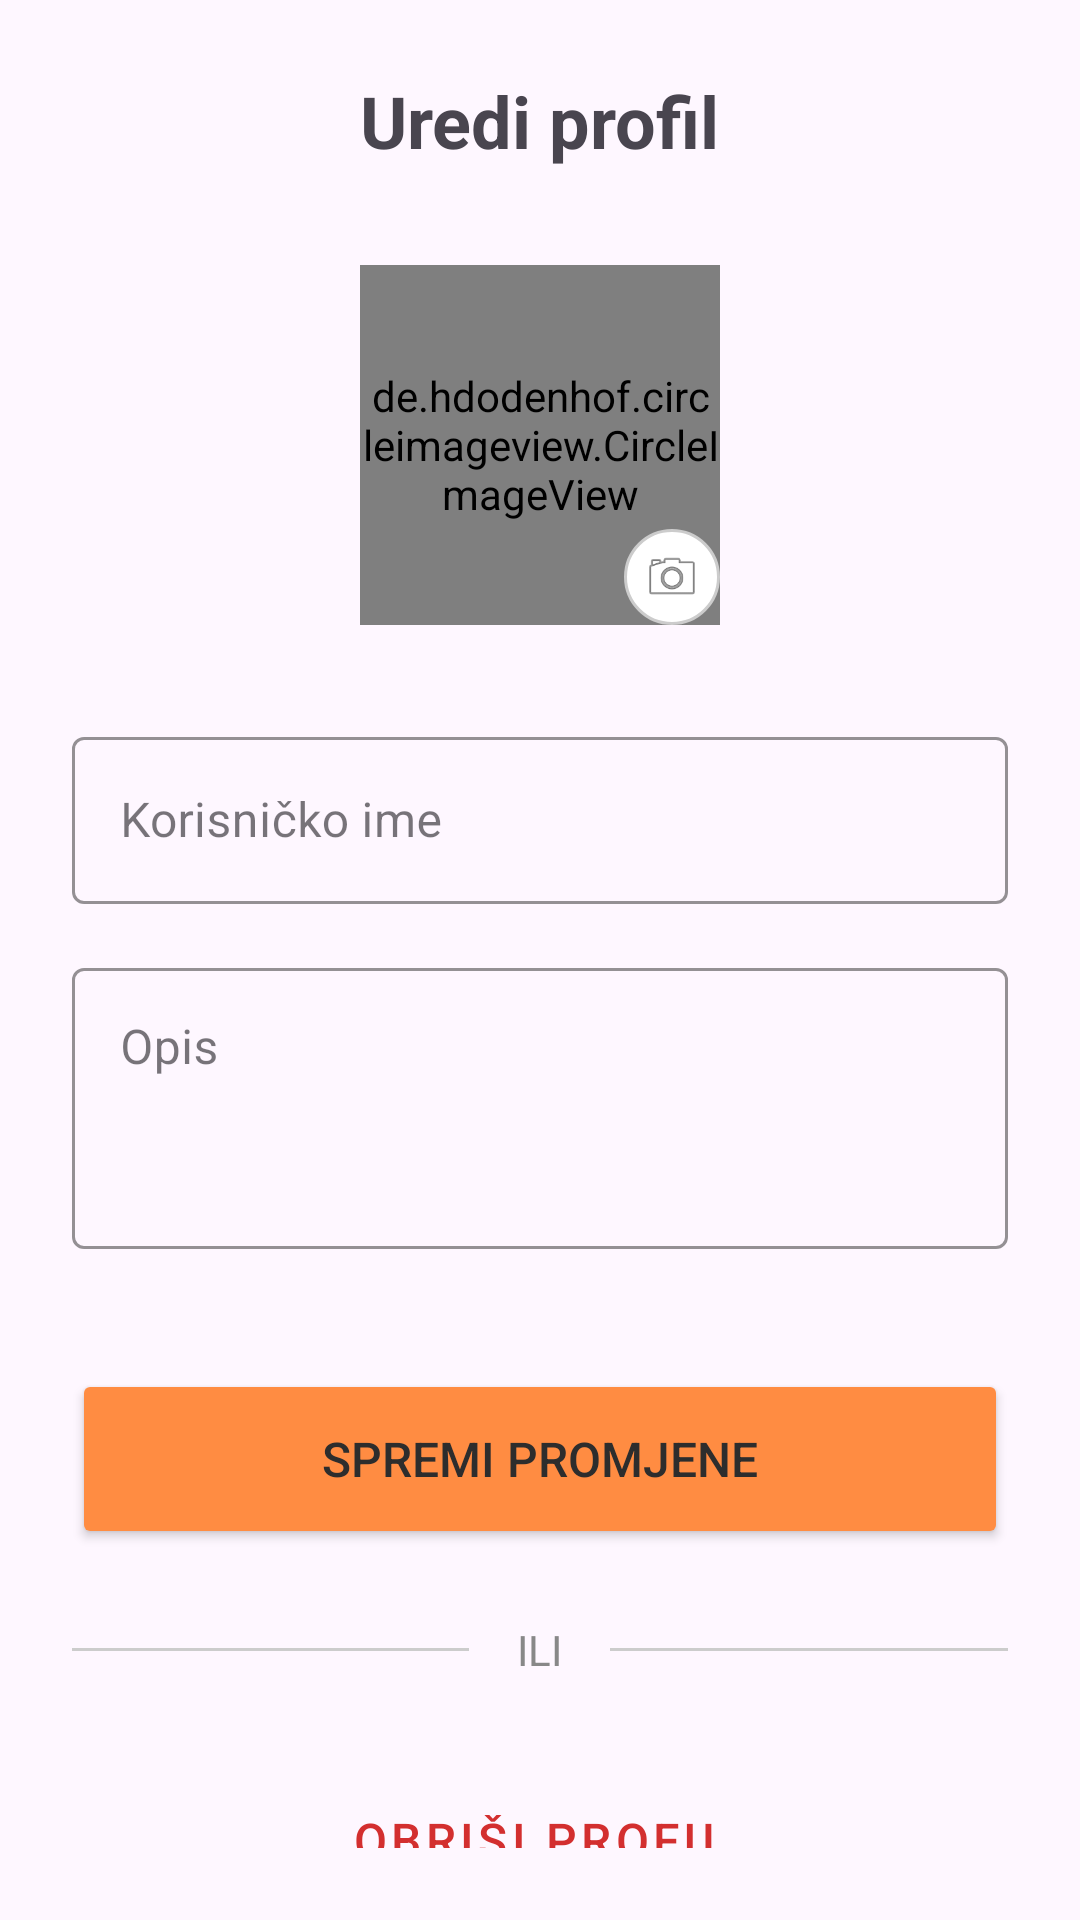

Named icons in this screenshot (1080 x 1920) and their centers, [x,y]:
camera: [672,577]
